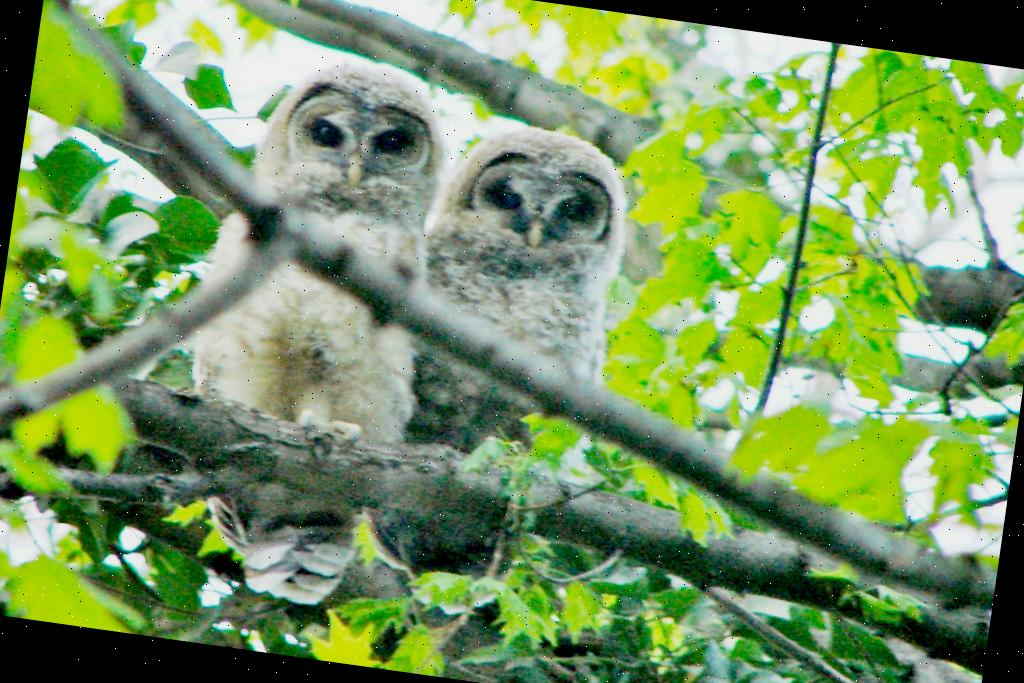Owl: (155, 47, 464, 622), (348, 113, 642, 638)
